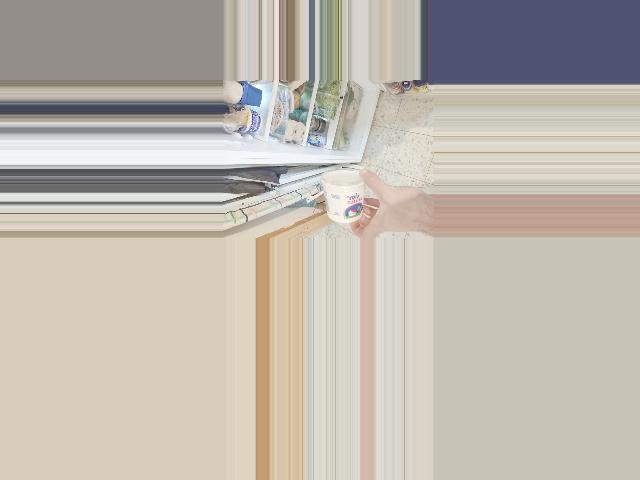cotage: (324, 164, 365, 222)
